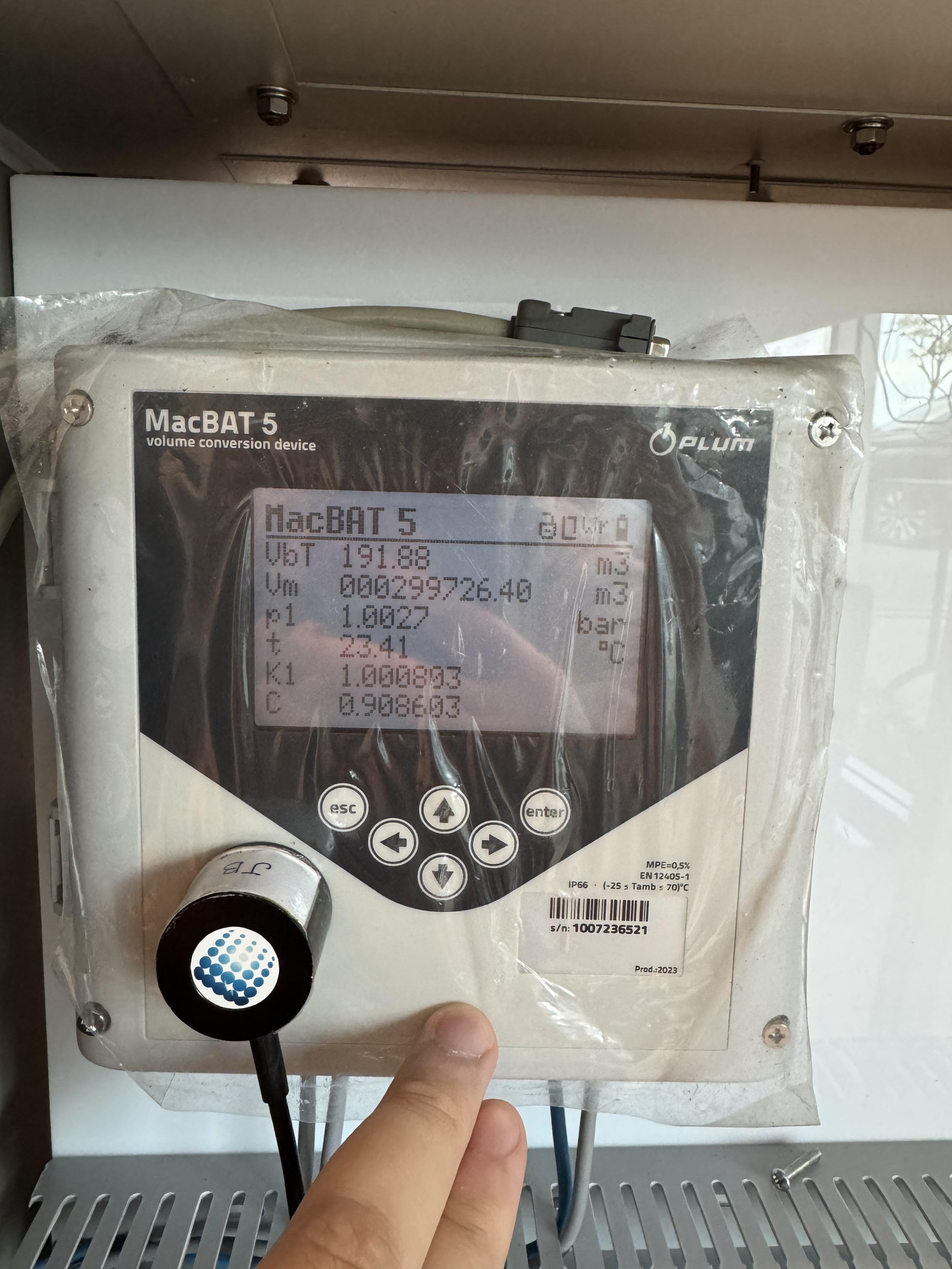digital_screen: (249, 489, 650, 736)
